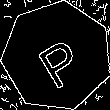P_NW: (28, 25, 86, 88)
